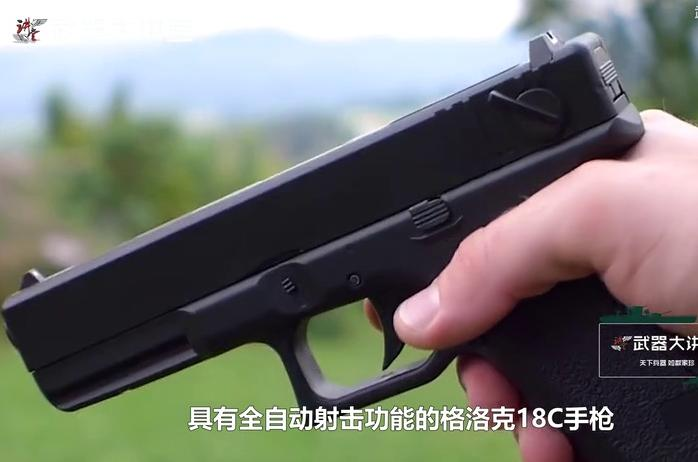gun: (1, 1, 698, 462)
